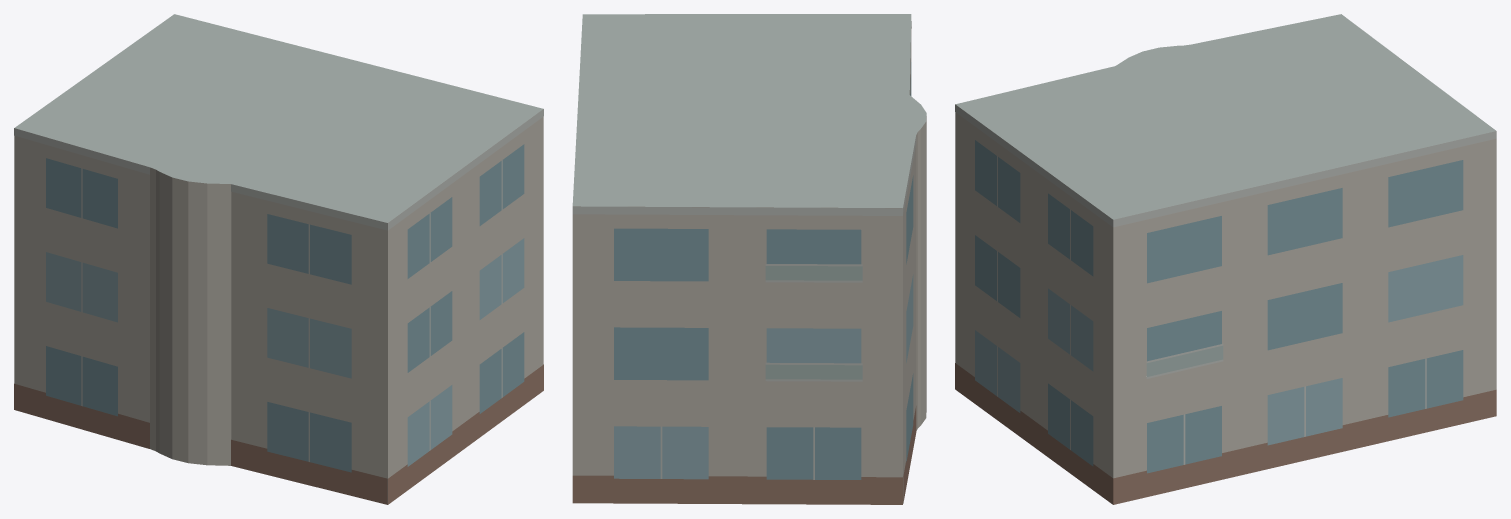
File: survey-upis-32704871.glb
3 views of the same model, side by side, from view 1: azimuth 30°, elevation 25°; view 2: azimuth 150°, elevation 25°; view 3: azimuth 270°, elevation 25° (orthographic). The views are drawn at different scales.
Visible parts, largest first — view 1: survey-upis-32704871.tmp; view 2: survey-upis-32704871.tmp; view 3: survey-upis-32704871.tmp.
Boxes of the visible parts, x1,y1,x2,y2 form: survey-upis-32704871.tmp: (14,14,543,504); survey-upis-32704871.tmp: (572,14,926,504); survey-upis-32704871.tmp: (955,14,1496,504).
Bounding box in the file's own units: 14.17 × 9.15 × 15.76.
